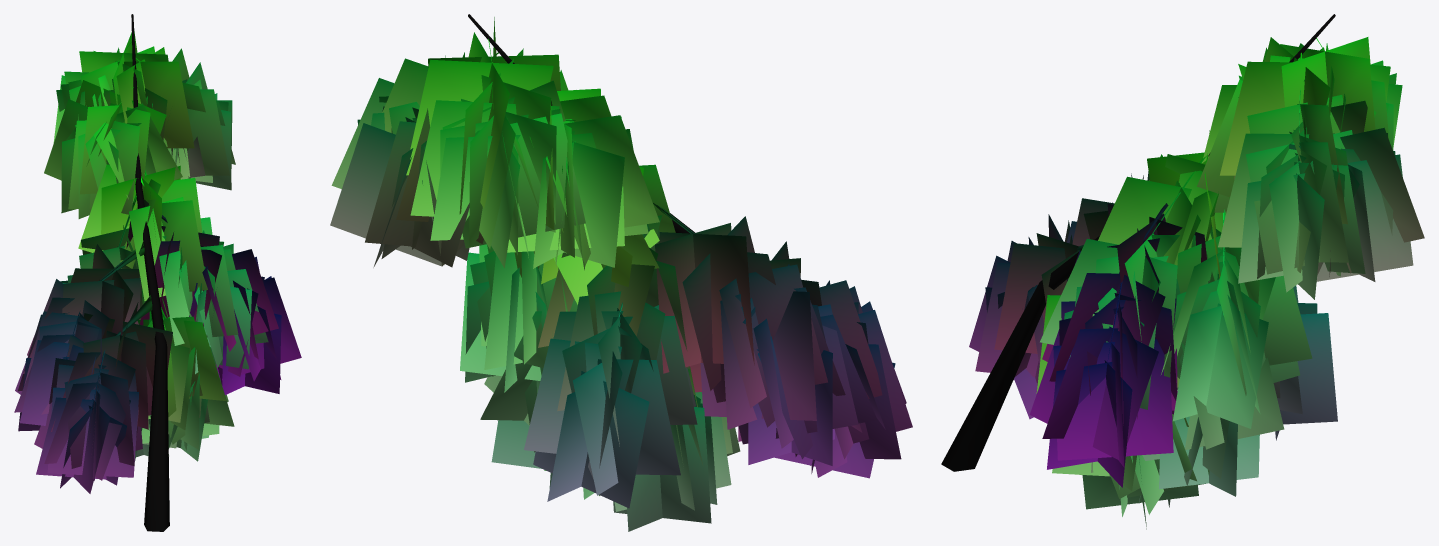
File: URP_P13_Tree_3_LOD_3.fbx
3 views of the same model, side by side, from view 1: azimuth 30°, elevation 25°; view 2: azimuth 150°, elevation 25°; view 3: azimuth 270°, elevation 25° (orthographic). The views are drawn at different scales.
Parts seen in each view (by area): view 1: Tree_3_LOD_3; view 2: Tree_3_LOD_3; view 3: Tree_3_LOD_3.
Boxes of the visible parts, x1,y1,x2,y2 form: Tree_3_LOD_3: (14,14,301,531); Tree_3_LOD_3: (330,14,912,531); Tree_3_LOD_3: (941,14,1424,529).
Size of the model in its own units: 411 by 522 by 436.
